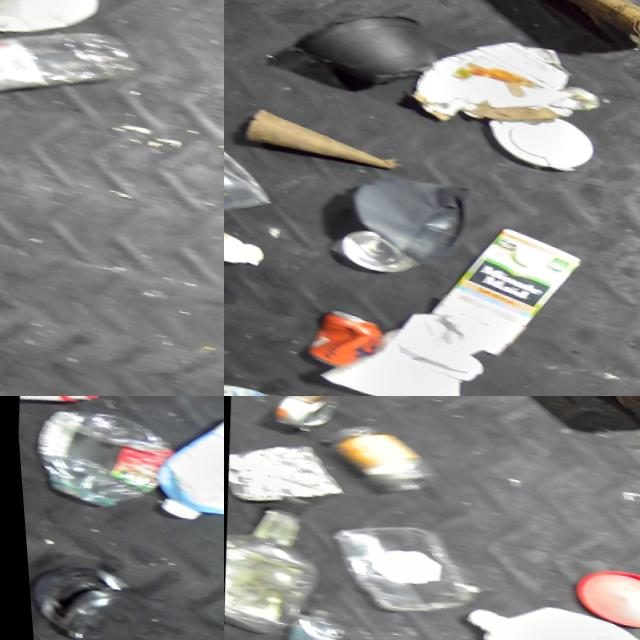can: (276, 295, 387, 375), (320, 209, 416, 283), (270, 396, 333, 433)
milk_jug: (464, 596, 640, 640), (0, 0, 106, 46)
non_white_jug: (143, 396, 224, 540)
plastic_bottle: (0, 0, 146, 124), (25, 401, 168, 517), (272, 597, 349, 640), (224, 376, 299, 396)
